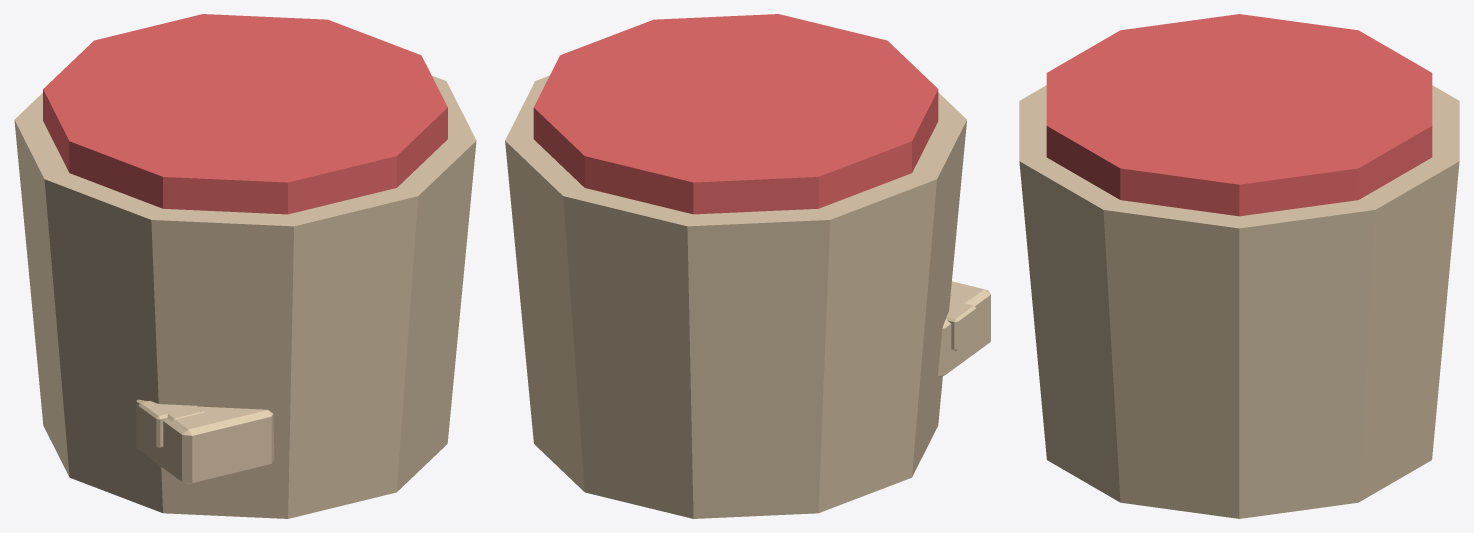
The model's file is b16_lidded_soup_cup.glb.
The picture shows the model from 3 angles, left to right: view 1: azimuth 30°, elevation 25°; view 2: azimuth 150°, elevation 25°; view 3: azimuth 270°, elevation 25°; orthographic projection.
Parts seen in each view (by area): view 1: b16_lidded_soup_cup; view 2: b16_lidded_soup_cup; view 3: b16_lidded_soup_cup.
Part boxes in pixels (x1,y1,x2,y2): b16_lidded_soup_cup: (14, 14, 476, 518); b16_lidded_soup_cup: (505, 14, 990, 518); b16_lidded_soup_cup: (1019, 14, 1459, 518).
Bounding box in the file's own units: 0.11 × 0.088 × 0.105.
